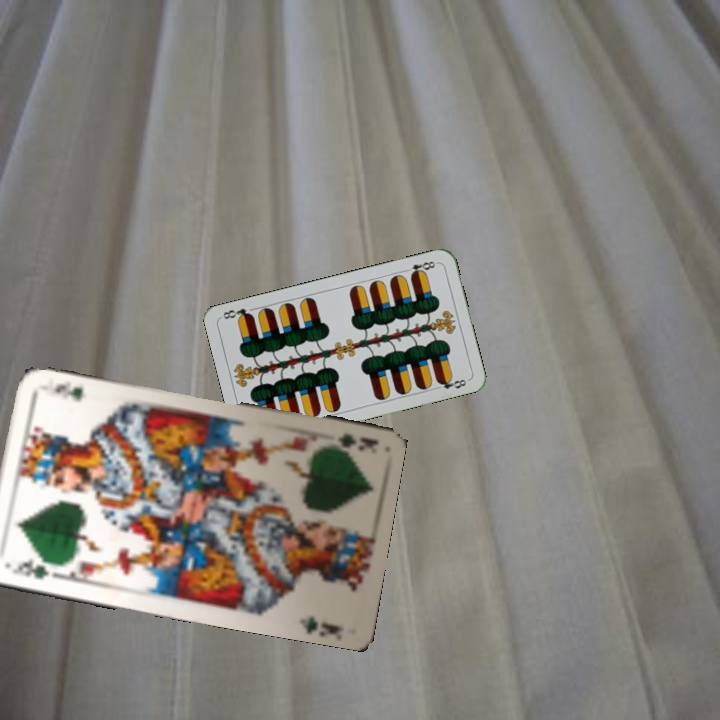E8: (400, 257, 440, 279)
GK: (7, 558, 63, 582), (333, 428, 380, 453)
